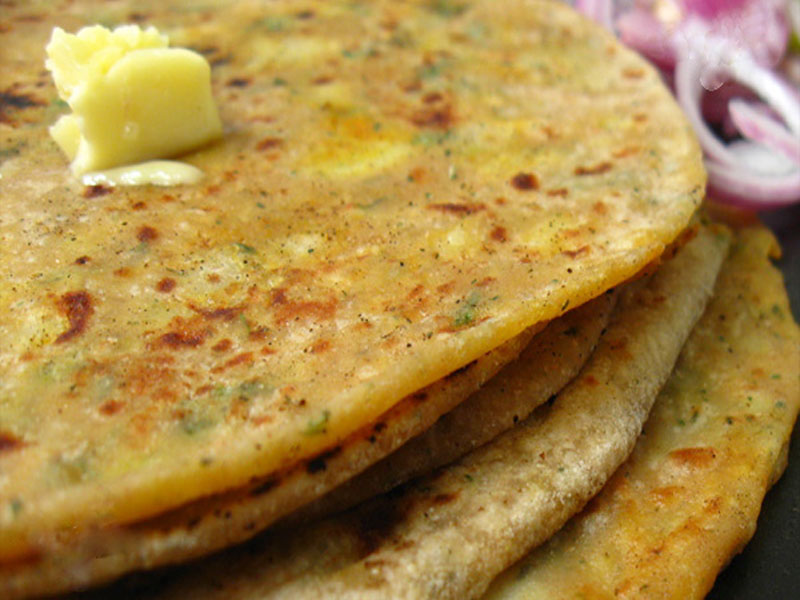aloo_paratha: (1, 5, 792, 598)
